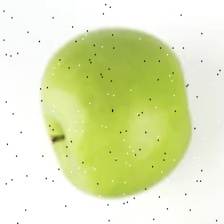apple: (26, 7, 174, 181)
